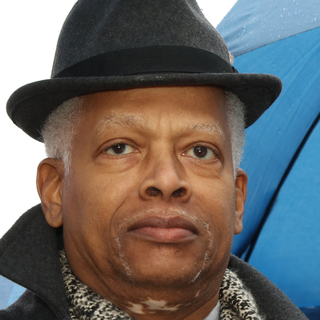eye: (96, 136, 143, 163), (178, 139, 223, 165)
